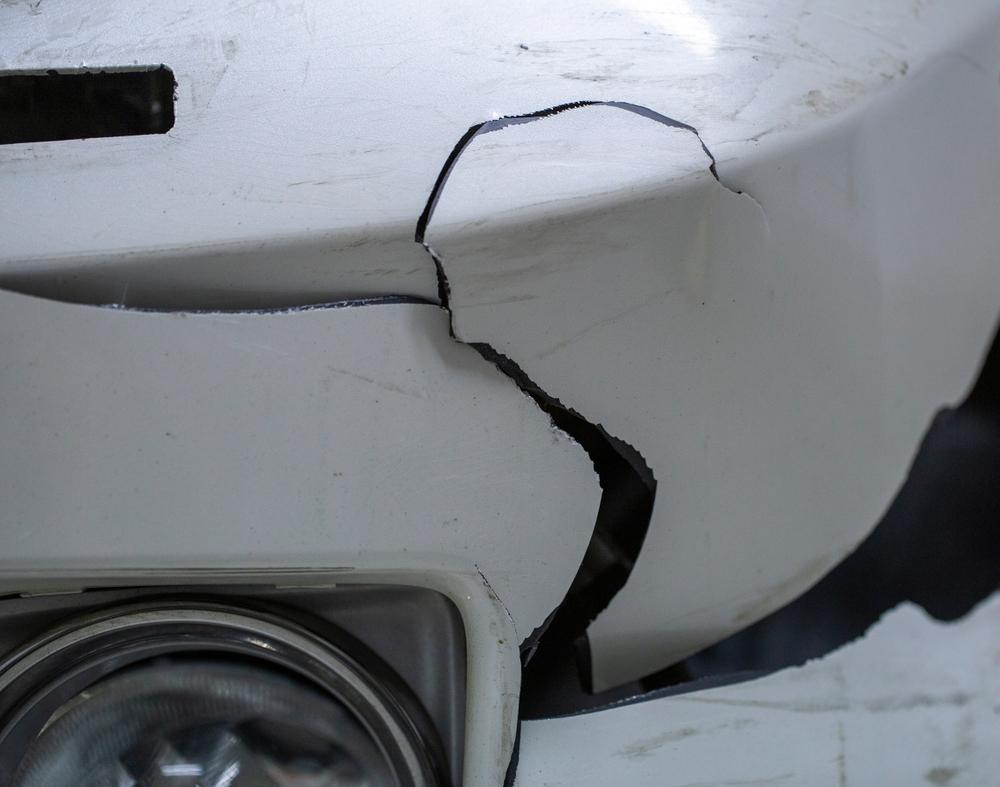crack: (0, 100, 1000, 787)
scratch: (513, 0, 930, 150)
